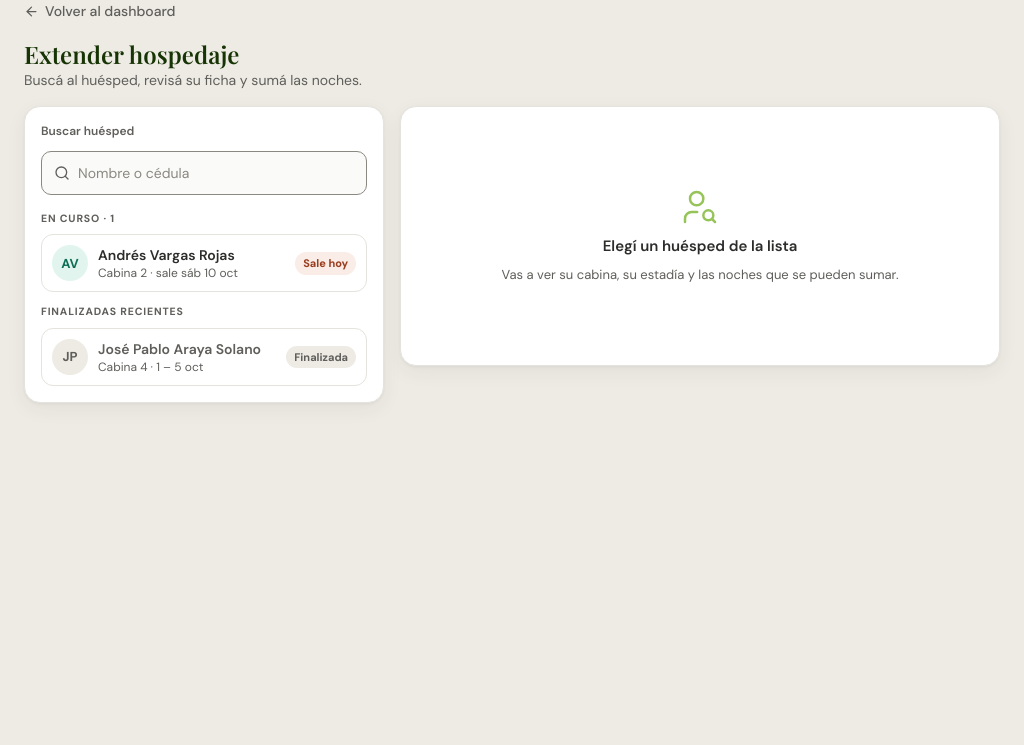
Scenario: HU-127 pantalla Extender hospedaje › CA-1: confirma la extensión, avisa el éxito y recarga la lista
This screenshot has width=1024, height=745.
Click the text "Andrés Vargas Rojas" at (166, 255), box [98,246,235,264]
(page scrolled)
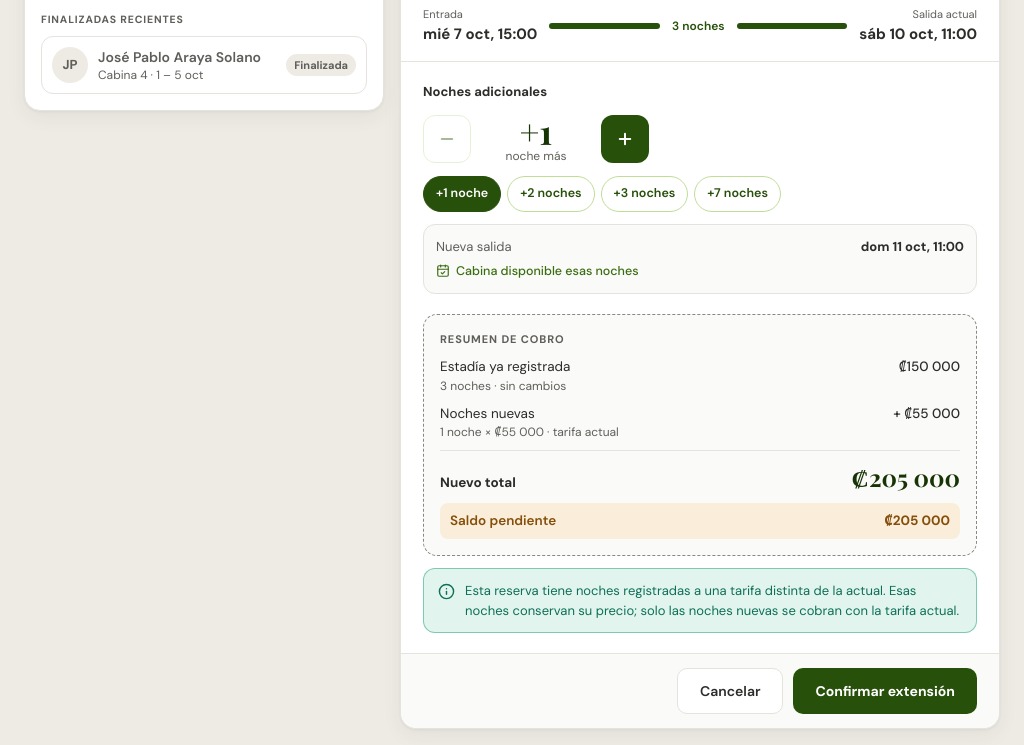
Expected: the text "Cabina disponible esas noches" is shown, [436,263,638,279]
Expected: the button "Confirmar extensión" is enabled
Click the button "Confirmar extensión" at (885, 691), box [794,668,977,714]
(page scrolled)
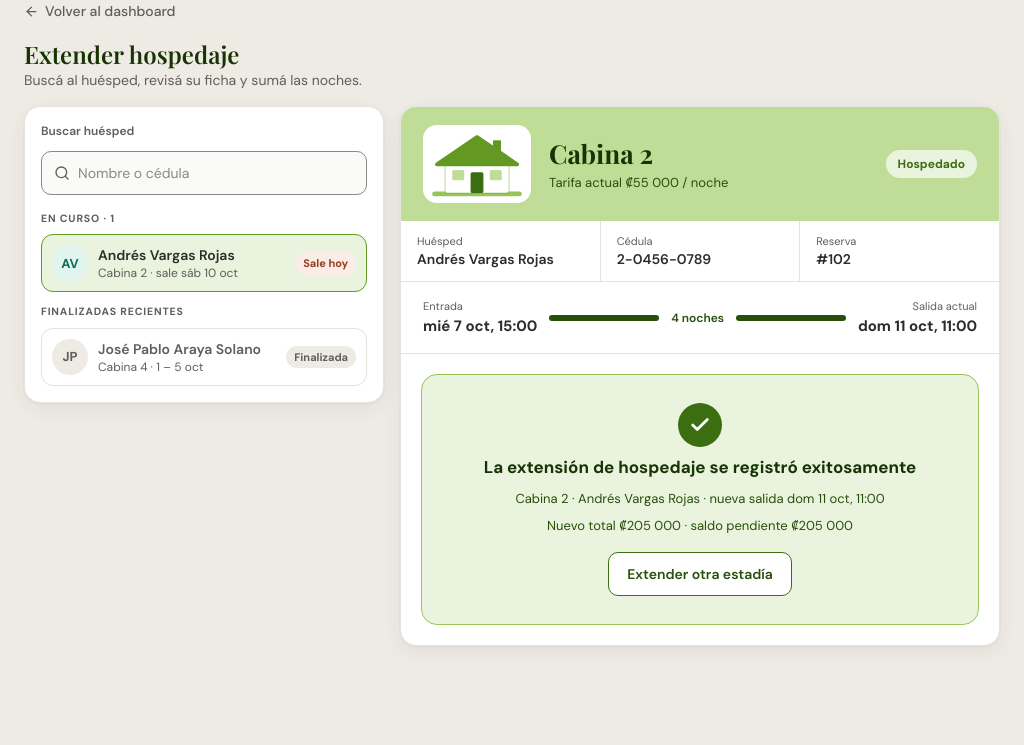
Expected: the text "La extensión de hospedaje se registró exitosamente" is shown, [484,455,916,480]
